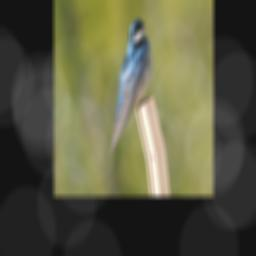Swallow: (91, 10, 165, 159)
